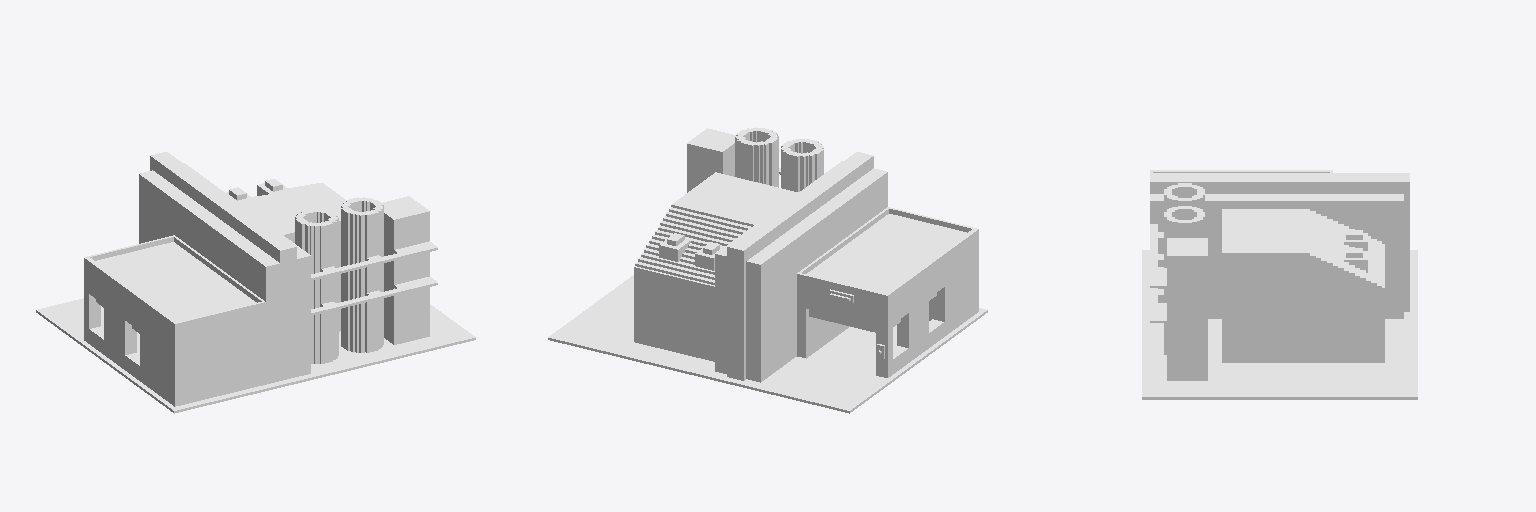
The model's file is zavod2.obj.
The picture shows the model from 3 angles: view 1: azimuth 30°, elevation 25°; view 2: azimuth 150°, elevation 25°; view 3: azimuth 270°, elevation 25°; orthographic projection.
Size of the model in its own units: 126 by 56 by 100.